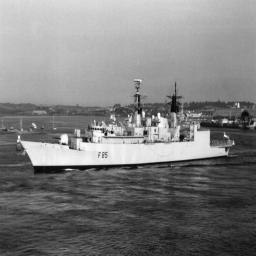Fragata: (20, 79, 232, 177)
